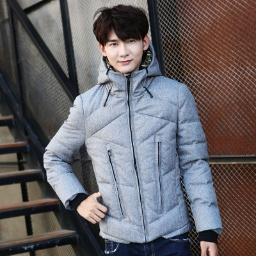face: (93, 3, 154, 74)
